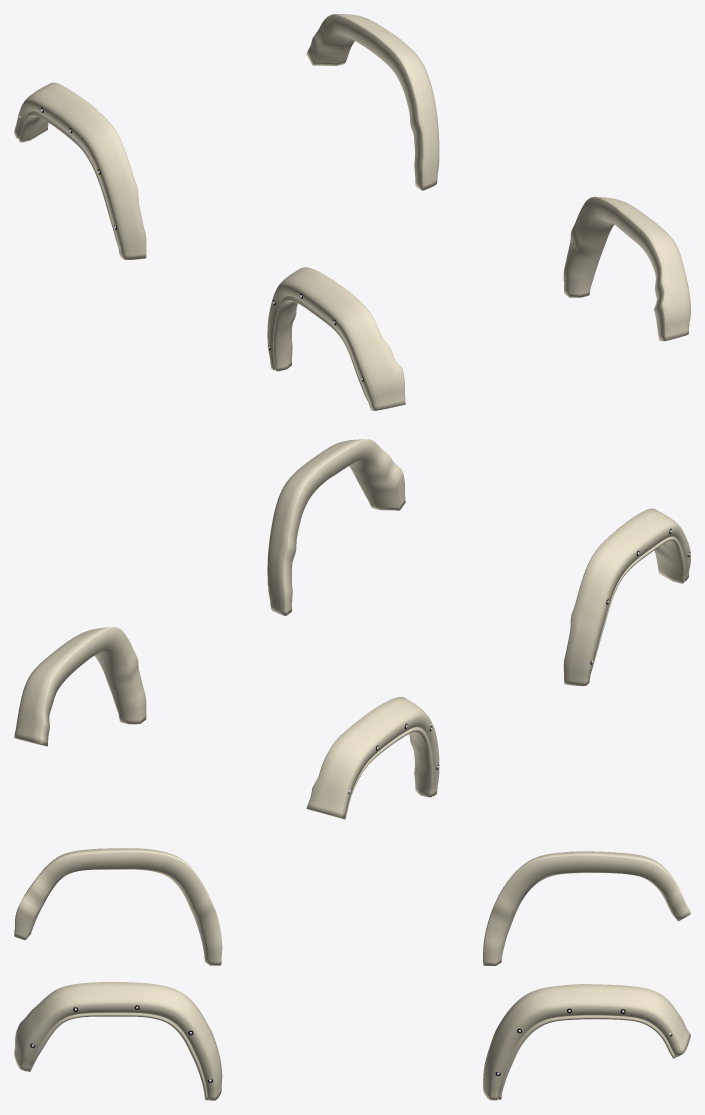
The model's file is fender_wald_bison.glb.
3 renders of one model, top to bottom at view 1: azimuth 30°, elevation 25°; view 2: azimuth 150°, elevation 25°; view 3: azimuth 270°, elevation 25°, orthographic. The views are drawn at different scales.
Parts seen in each view (by area): view 1: front-1, rear-1, front1, rear1; view 2: front-1, front1, rear-1, rear1; view 3: front1, rear1, front-1, rear-1.
Part boxes in pixels (bbox=[...]): front-1: bbox=[267, 267, 405, 410]; rear-1: bbox=[14, 82, 146, 259]; front1: bbox=[563, 196, 690, 341]; rear1: bbox=[306, 14, 439, 190]; front-1: bbox=[563, 508, 690, 686]; front1: bbox=[267, 439, 405, 615]; rear-1: bbox=[306, 697, 439, 819]; rear1: bbox=[14, 627, 146, 746]; front1: bbox=[14, 982, 222, 1100]; rear1: bbox=[483, 984, 690, 1100]; front-1: bbox=[14, 848, 222, 965]; rear-1: bbox=[483, 851, 690, 965].
Bounding box in the file's own units: 1.66 × 0.5628 × 3.08.
